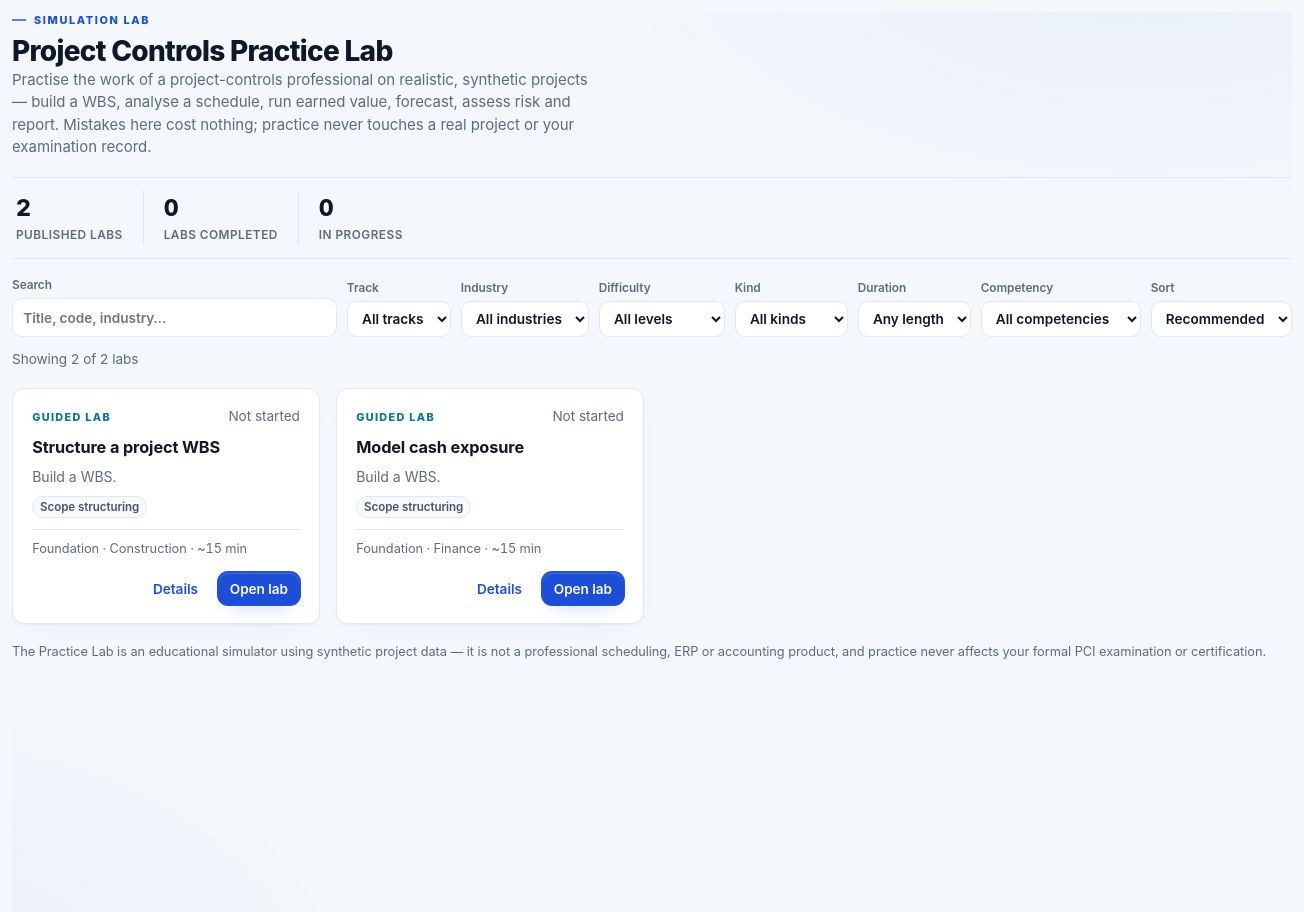
Scenario: Lab (Simulation Lab landing) › announces the result count and restores the catalogue via Clear all filters
This screenshot has width=1304, height=912.
Expected: the message reads "Showing 2 of 2 labs", [12,351,138,367]
Select "Finance" in the dropdown named "Filter by industry": (525, 319) [461,301,589,337]
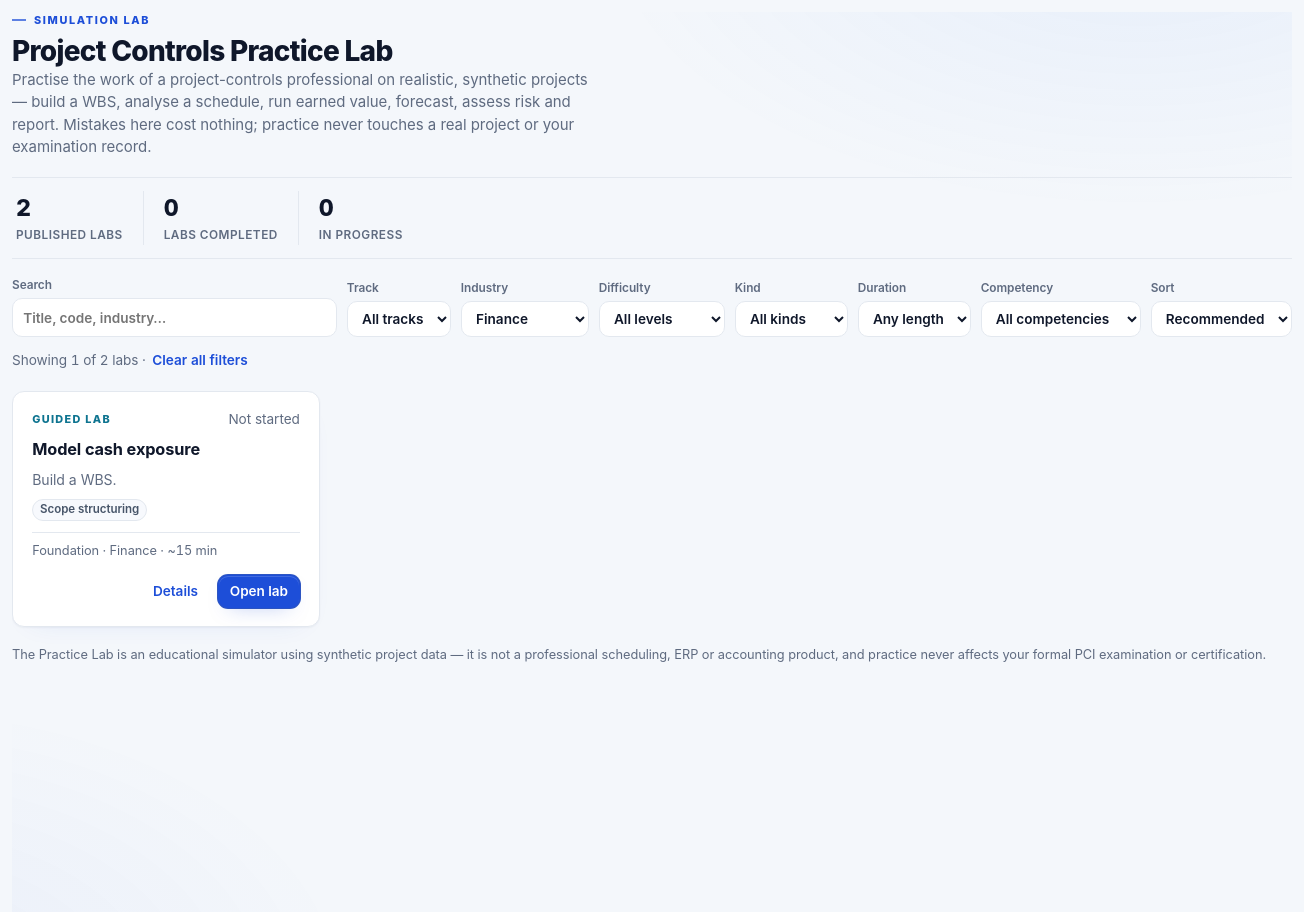
Result: the message shows "Showing 1 of 2 labs" at [12,349,250,372]
Click the button "Clear all filters": (200, 361) [150,349,250,372]
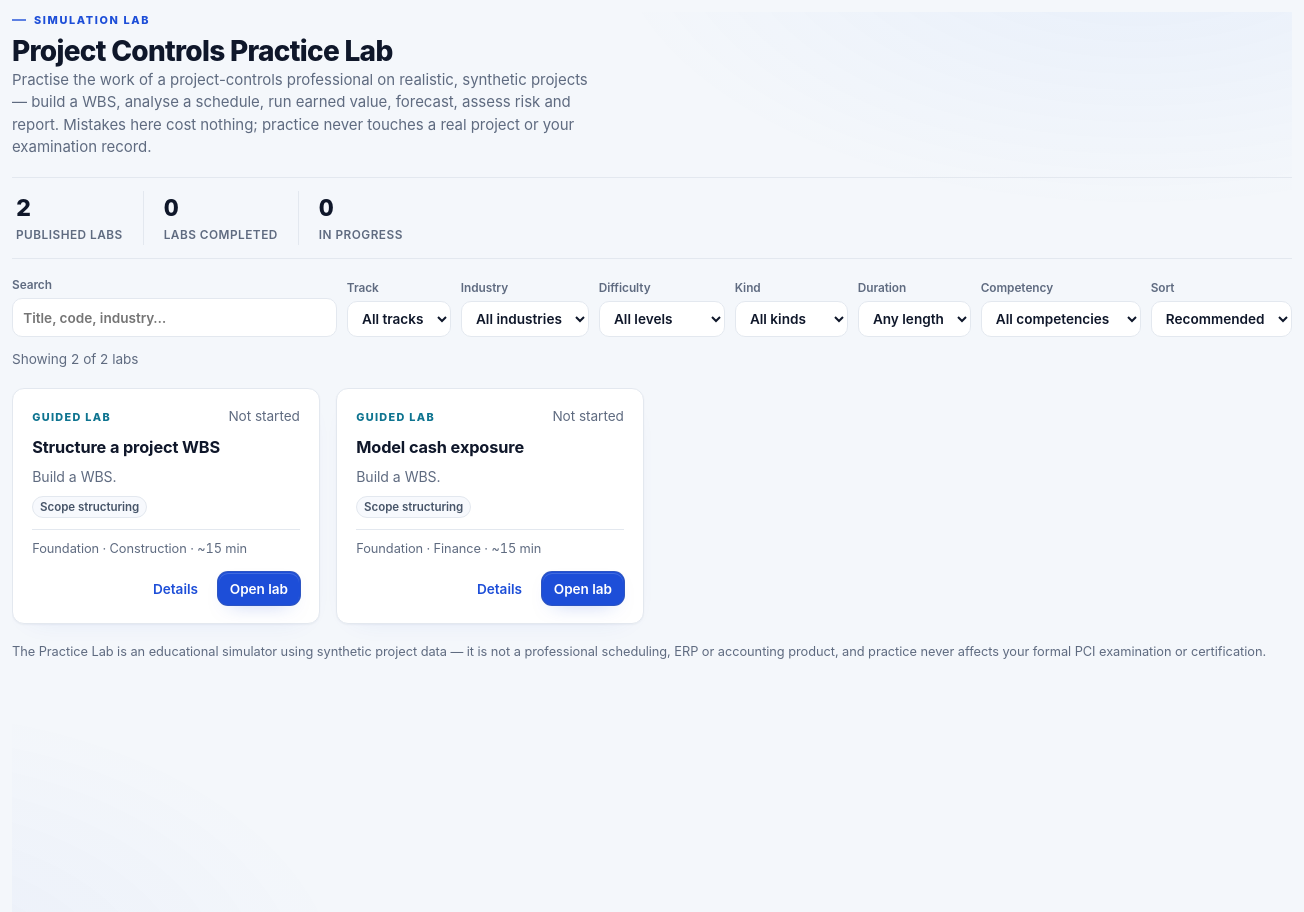
Result: the message reads "Showing 2 of 2 labs" at [12,351,138,367]
Result: the heading "Structure a project WBS" is shown at [32,437,220,457]
